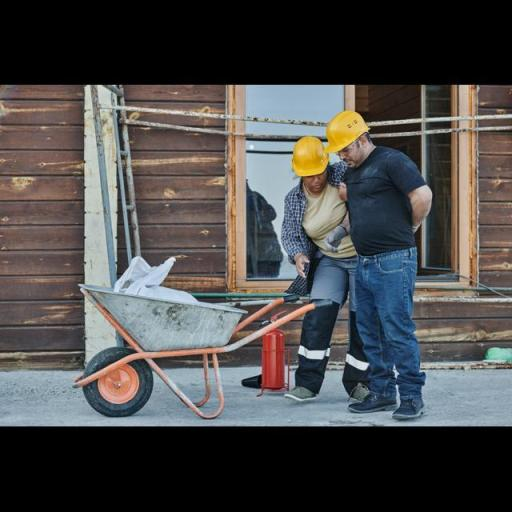Person: (320, 98, 450, 425), (271, 122, 388, 425)
boots: (349, 378, 403, 414), (279, 374, 333, 410), (389, 396, 433, 425), (348, 382, 374, 404)
gloves: (319, 224, 349, 254)
helmet: (288, 132, 334, 178), (325, 111, 370, 156)
none: (337, 148, 439, 271), (278, 164, 380, 286), (292, 248, 315, 284)
